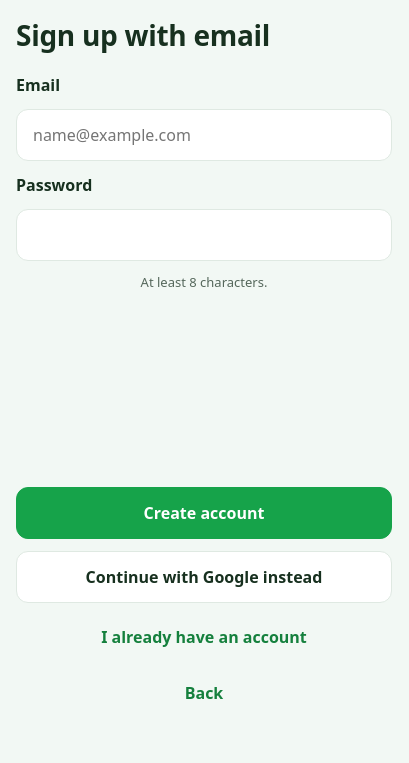
asks to confirm the email address when the backend requires it
Type "sanne@example.com" into the field labelled "Email" at (204, 135), box [16,109,392,161]
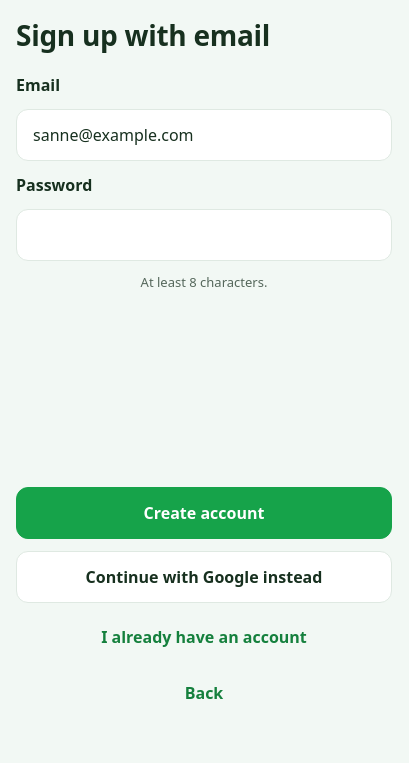
Type "long-enough-password" into the password field labelled "Password" at (204, 235), box [16,209,392,261]
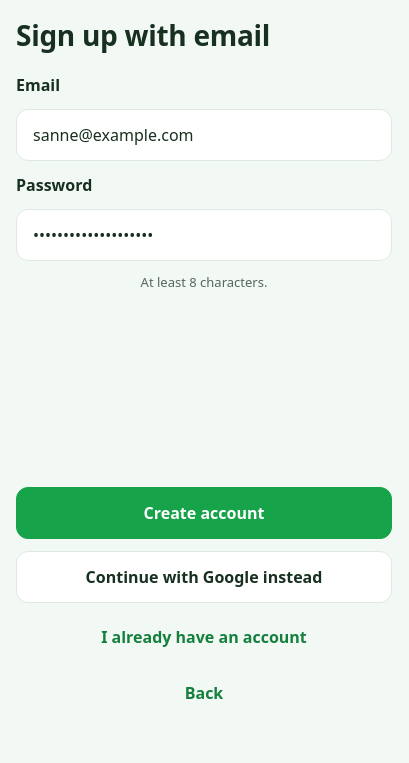
Click the button "Create account" at (204, 513), box [16,487,392,539]
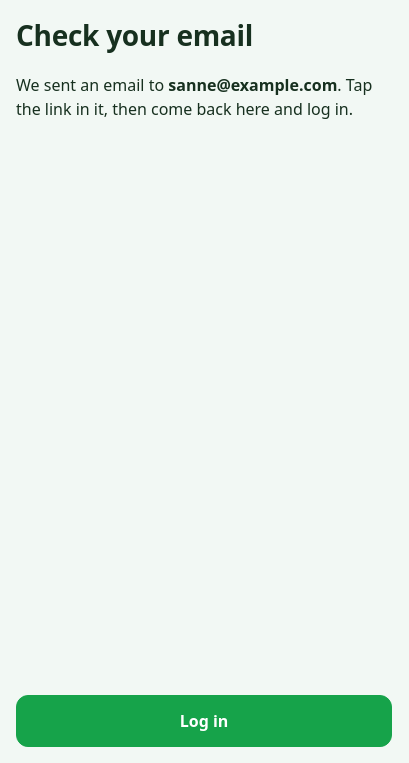
Expected: the heading "Check your email" is shown, [16,16,253,54]
